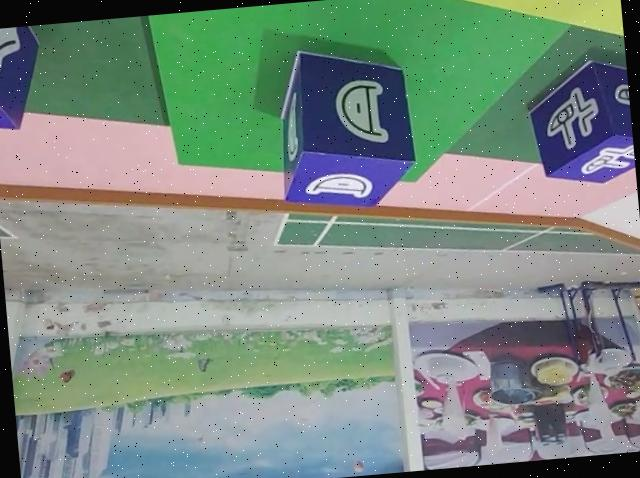R2 Real Blue: (270, 40, 418, 213), (521, 54, 636, 189), (0, 23, 46, 130)
